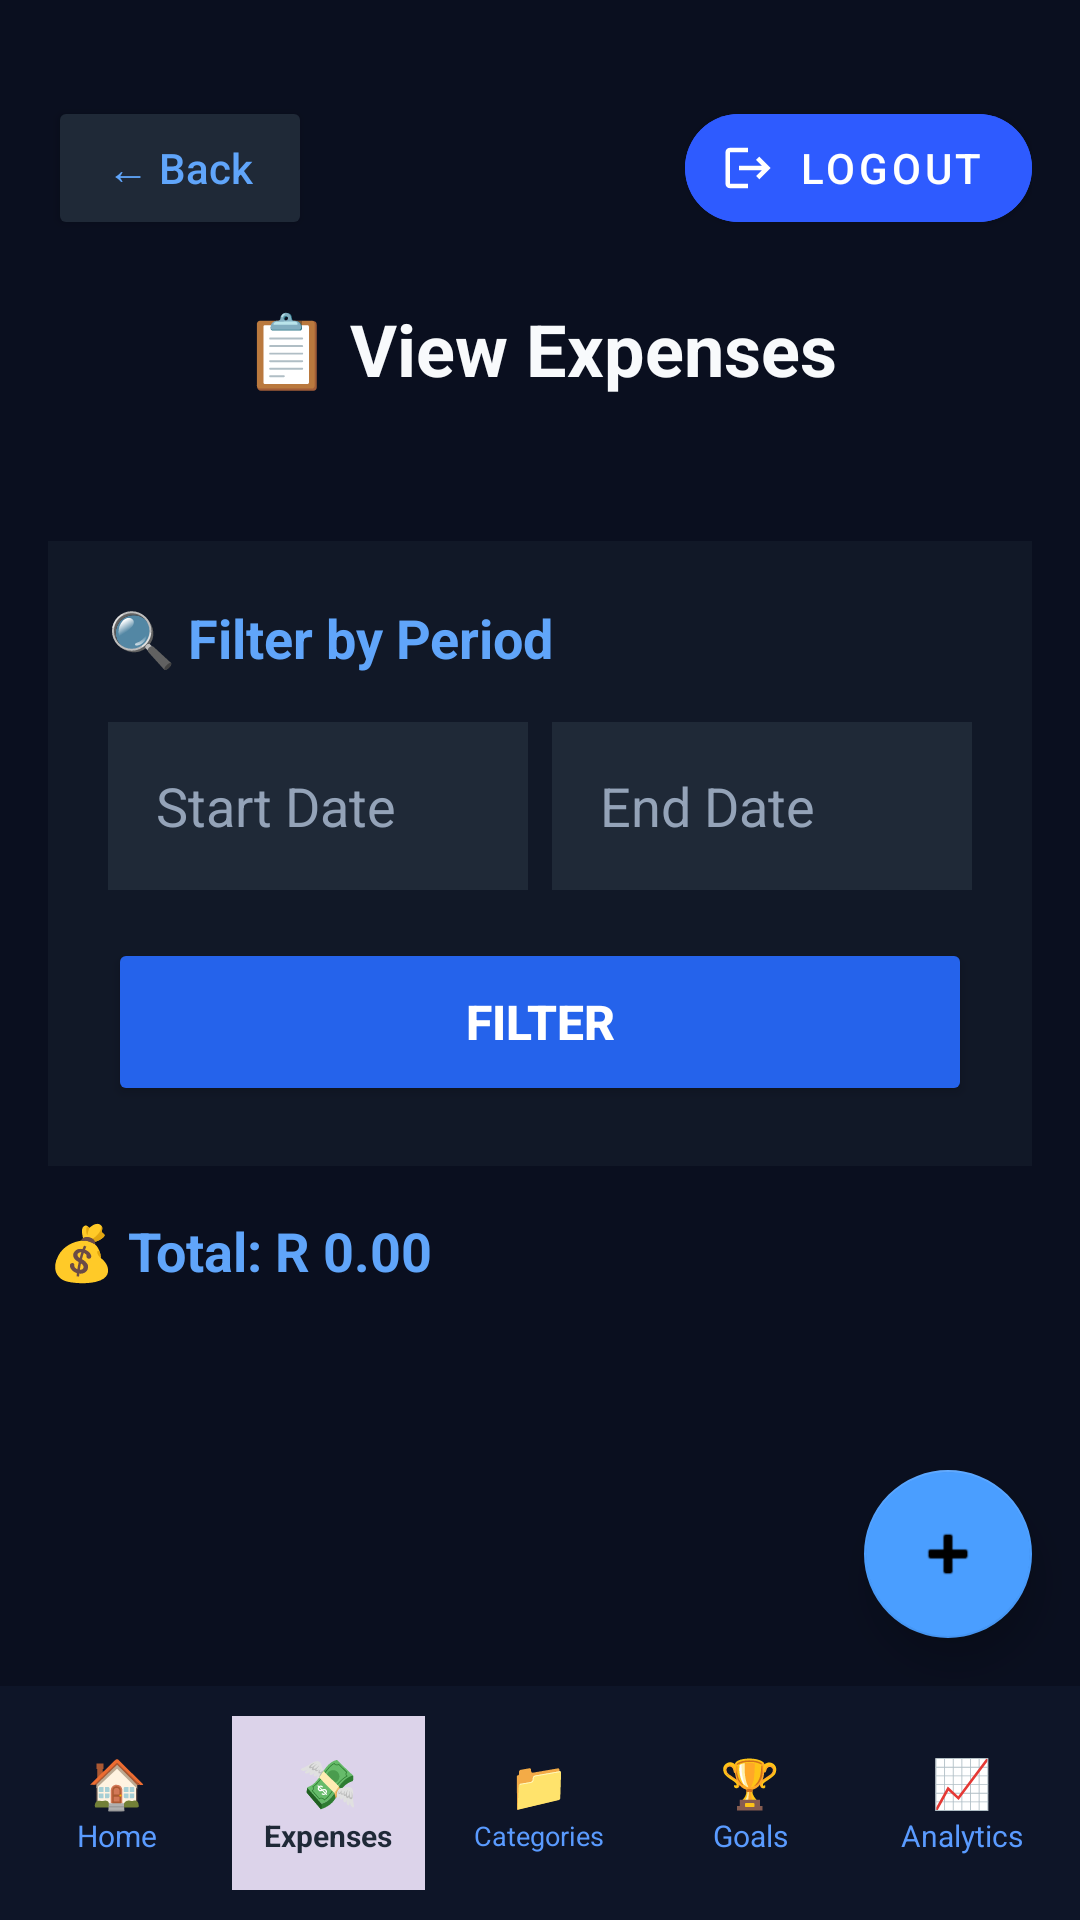

Locate icon controls on the screen. Image size 1080 x 1920, boxes as [x1=x1, y1=y1, x2=x2, y2=y2].
Add Expense: [x1=864, y1=1470, x2=1032, y2=1638]
